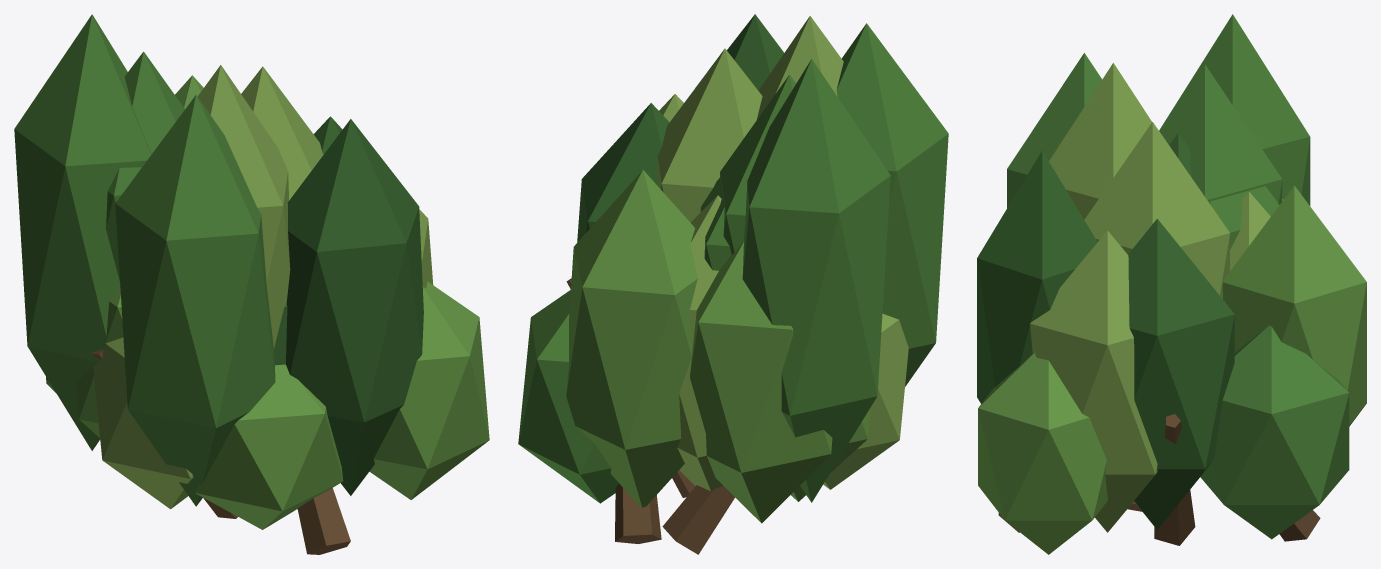
Rendered from thicket.glb.
3 views of the same model, side by side, from view 1: azimuth 30°, elevation 25°; view 2: azimuth 150°, elevation 25°; view 3: azimuth 270°, elevation 25° (orthographic). The views are drawn at different scales.
Parts seen in each view (by area): view 1: thicket; view 2: thicket; view 3: thicket.
Part boxes in pixels (x1,y1,x2,y2): thicket: (14, 14, 489, 554); thicket: (518, 14, 948, 554); thicket: (977, 14, 1366, 554).
Bounding box in the file's own units: 0.9268 × 1.23 × 0.9416.
